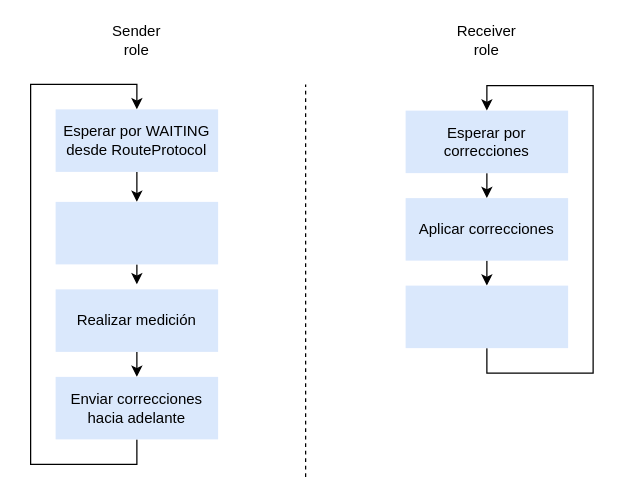
This 625x500 diagram has some shape labels left out. The shapes that lost their labels are listed below. From the top down, each one's centre as x and y in pixels, then its label:
point (136, 232): Guardar en memoria estado a teleportar
point (486, 316): Enviar señal SUCCESS a RouteProtocol
